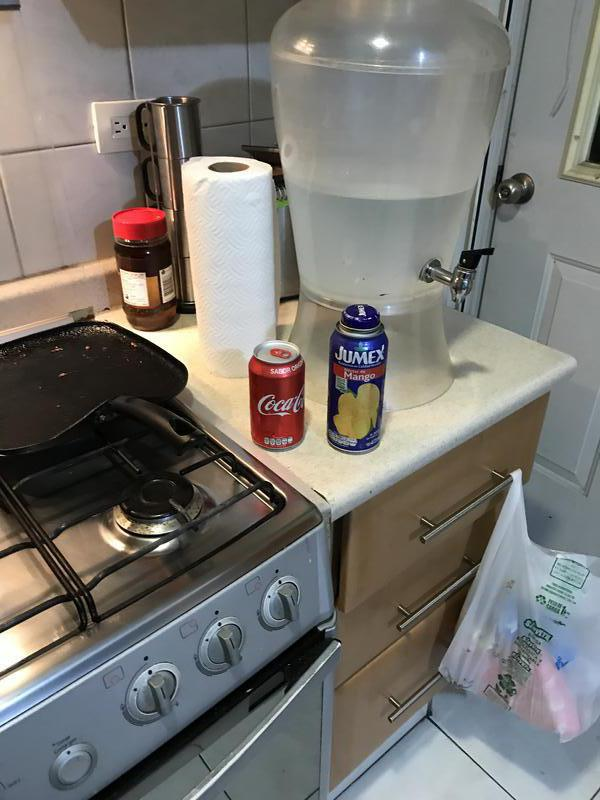coca_cola: (249, 342, 306, 453)
jugo_jumex: (330, 304, 386, 453)
